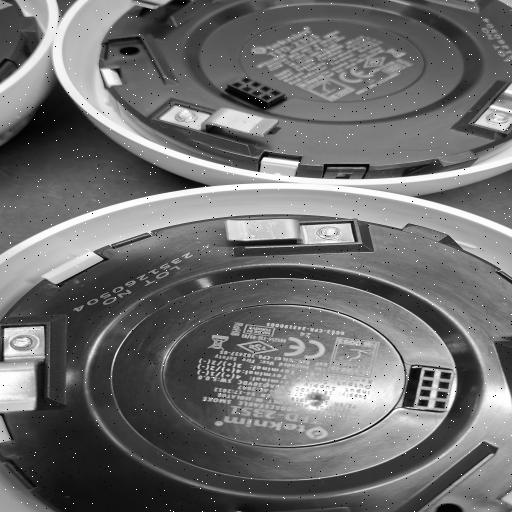konnektor: (392, 359, 468, 421), (220, 73, 293, 113)
yaysiz: (203, 210, 376, 256), (152, 104, 286, 150)
